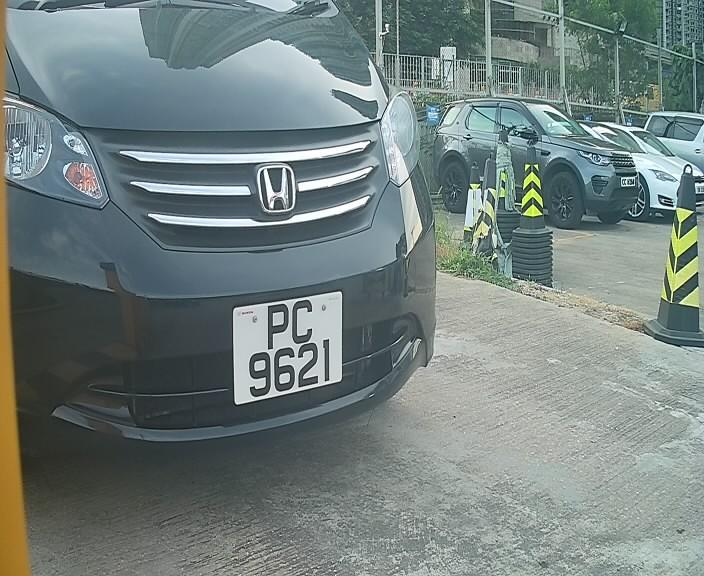privatecar: (5, 1, 454, 474)
